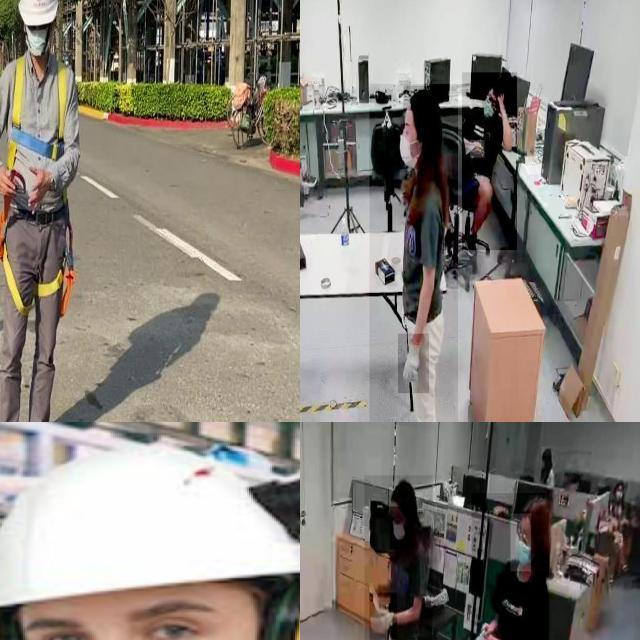Ear-protection: (0, 427, 300, 640)
Harness: (0, 56, 68, 313), (12, 128, 65, 160)
No_Glasses: (16, 584, 255, 640)
face_mask: (395, 124, 421, 169), (511, 514, 531, 572), (389, 507, 408, 549), (482, 97, 498, 127)
hand_glove: (398, 334, 430, 394), (369, 592, 397, 640)
hand_noglove: (483, 623, 500, 640), (470, 140, 485, 158), (495, 88, 505, 110)
head_nohelmet: (404, 85, 441, 112), (391, 480, 416, 506), (520, 495, 550, 512), (488, 77, 508, 89), (541, 447, 551, 457)
person: (0, 422, 300, 640), (369, 84, 458, 422), (471, 493, 549, 640), (364, 475, 433, 640), (462, 72, 518, 251)
shoes: (300, 170, 320, 188)
